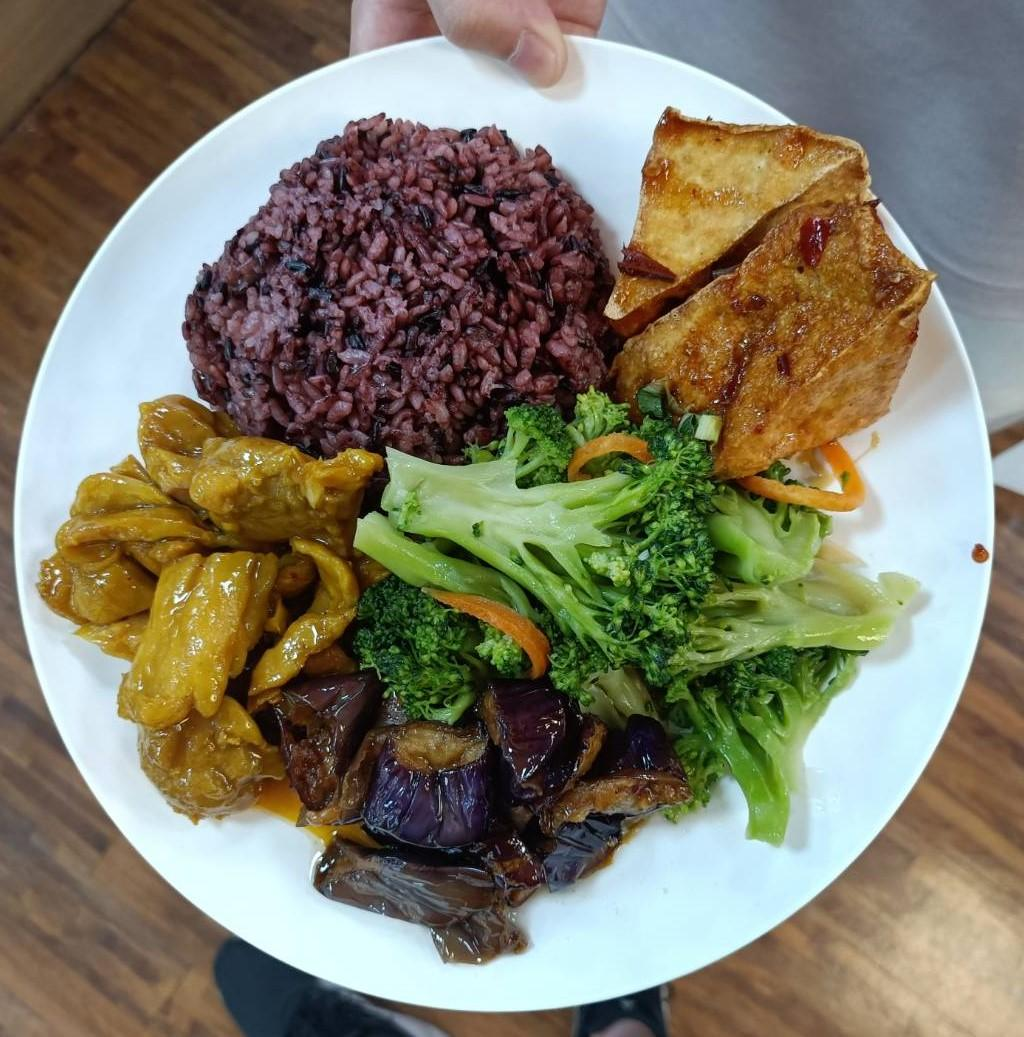big fried chicken leg: (18, 20, 1012, 1008)
braised fish: (180, 107, 628, 456)
braised fish fillet: (340, 396, 864, 731), (598, 100, 940, 486), (268, 683, 696, 932)
braised pork: (63, 395, 370, 770)
